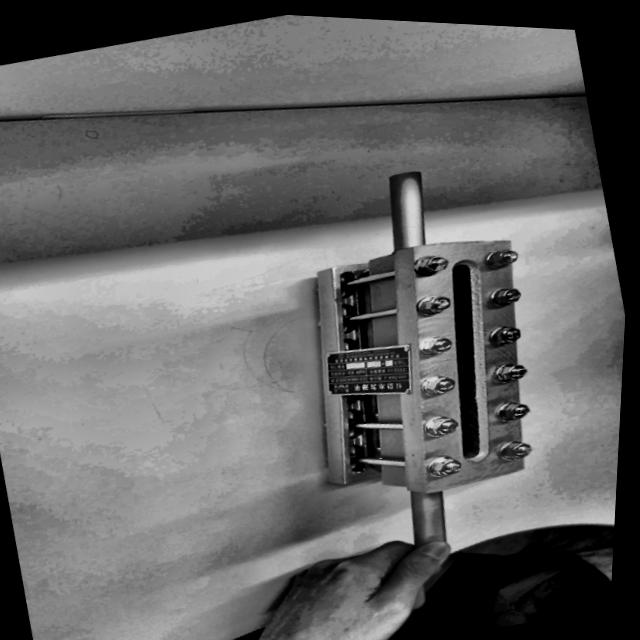ShuiWeiQi_12: (243, 129, 615, 563)
